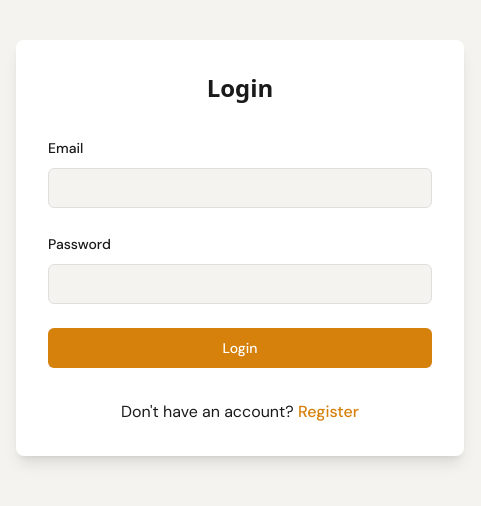
Test: LoginPage › shows generic error on network failure
Type "user@test.com" into the field labelled "Email" at (240,188), box [48,168,432,208]
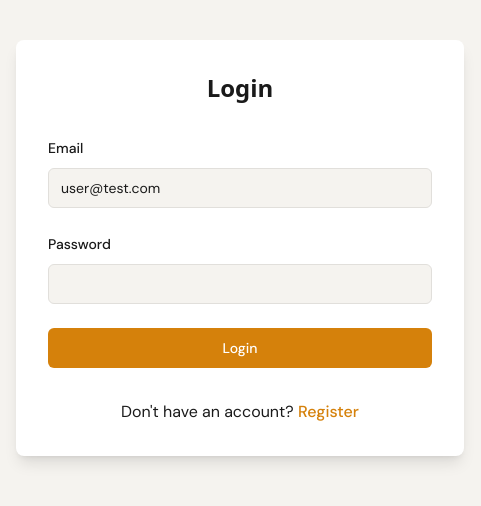
Type "pass" into the password field labelled "Password" at (240,284), box [48,264,432,304]
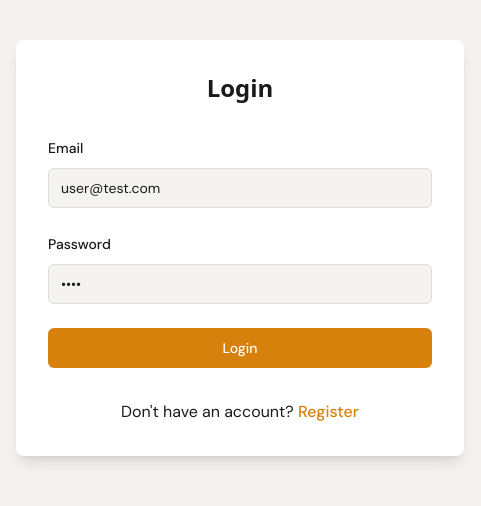
Click the button "Login" at (240,348), box [48,328,432,368]
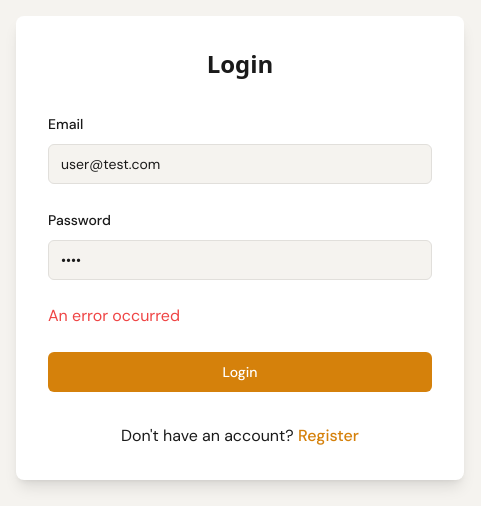
Now the text "An error occurred" is shown, box [48,305,180,326]
